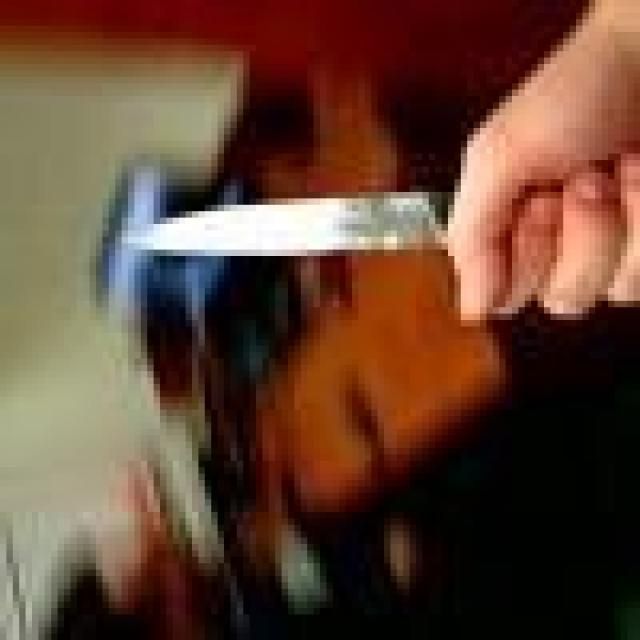senjata_tajam: (112, 188, 464, 251)
